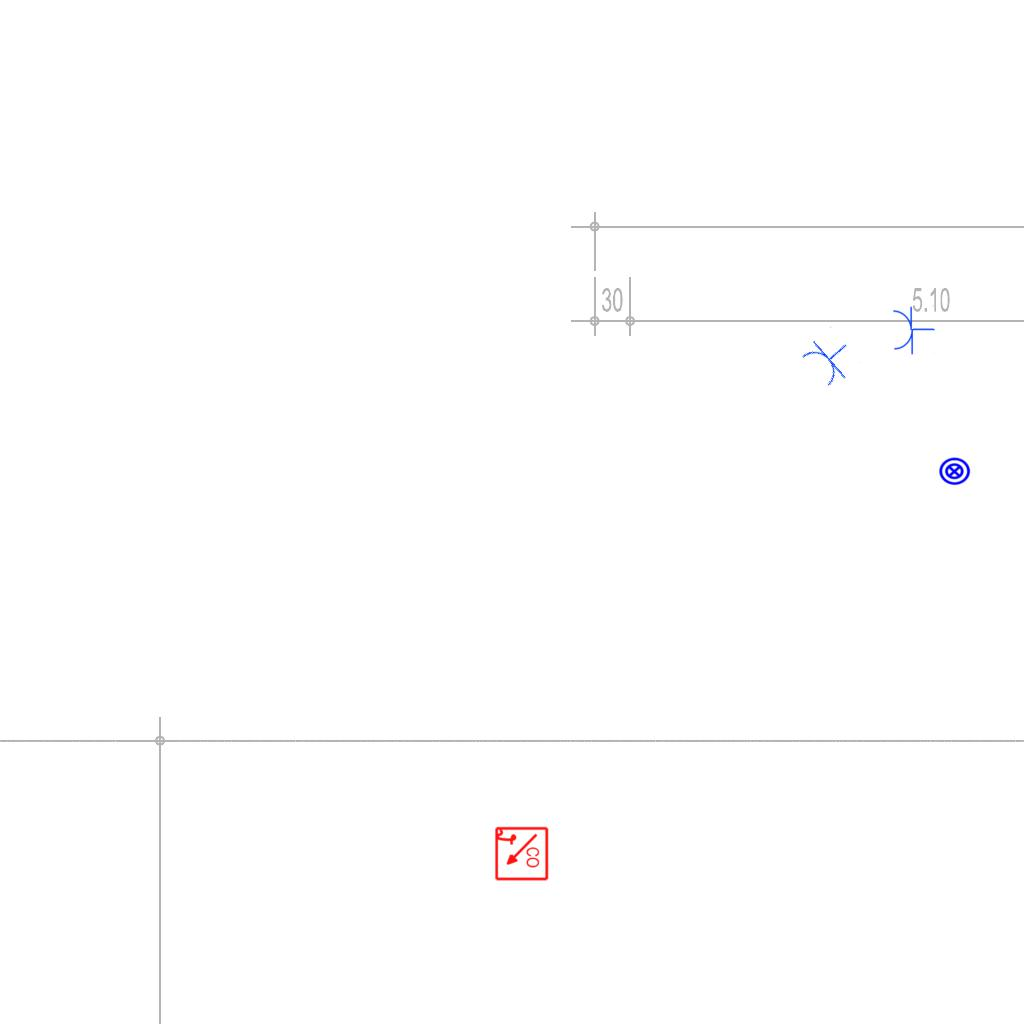ROA_Rauchmelder_optisch_mit_Signalgeber_(Sockelsirene): (493, 826, 549, 882)
Schukosteckdose_einfach: (797, 325, 863, 392), (891, 304, 935, 355)
Taster_beleuchtet: (938, 455, 971, 488)
